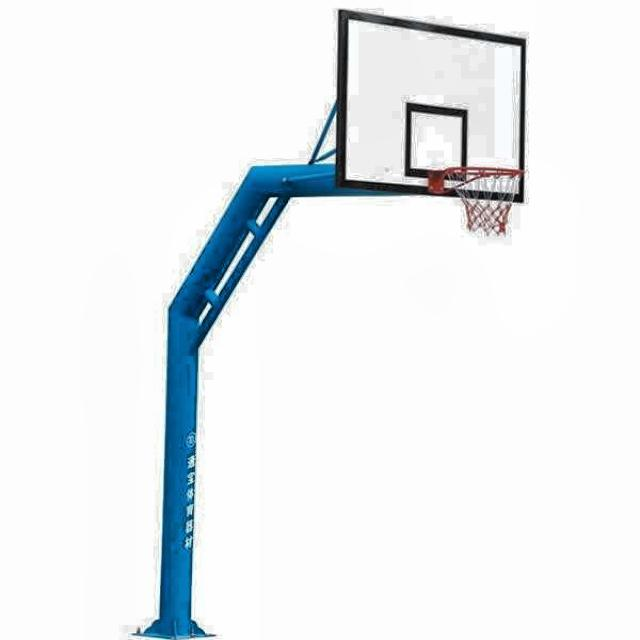rim: (446, 168, 524, 236)
